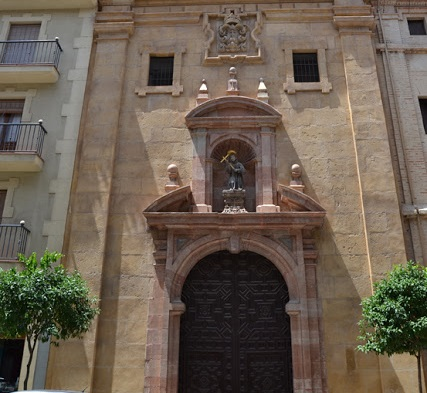arco-medio-punto: (171, 239, 298, 322)
fronton-curvo: (183, 94, 286, 126)
fronton-partido: (142, 183, 330, 229)
